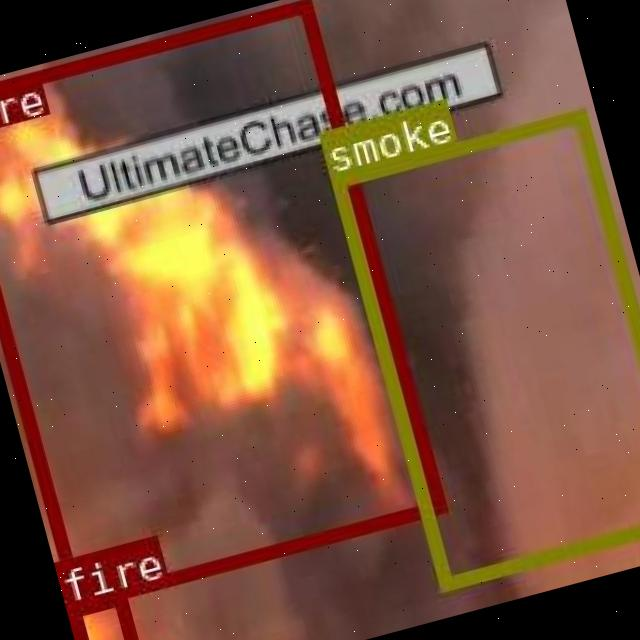fire: (0, 0, 443, 608), (64, 588, 137, 640)
smoke: (329, 107, 640, 589)
